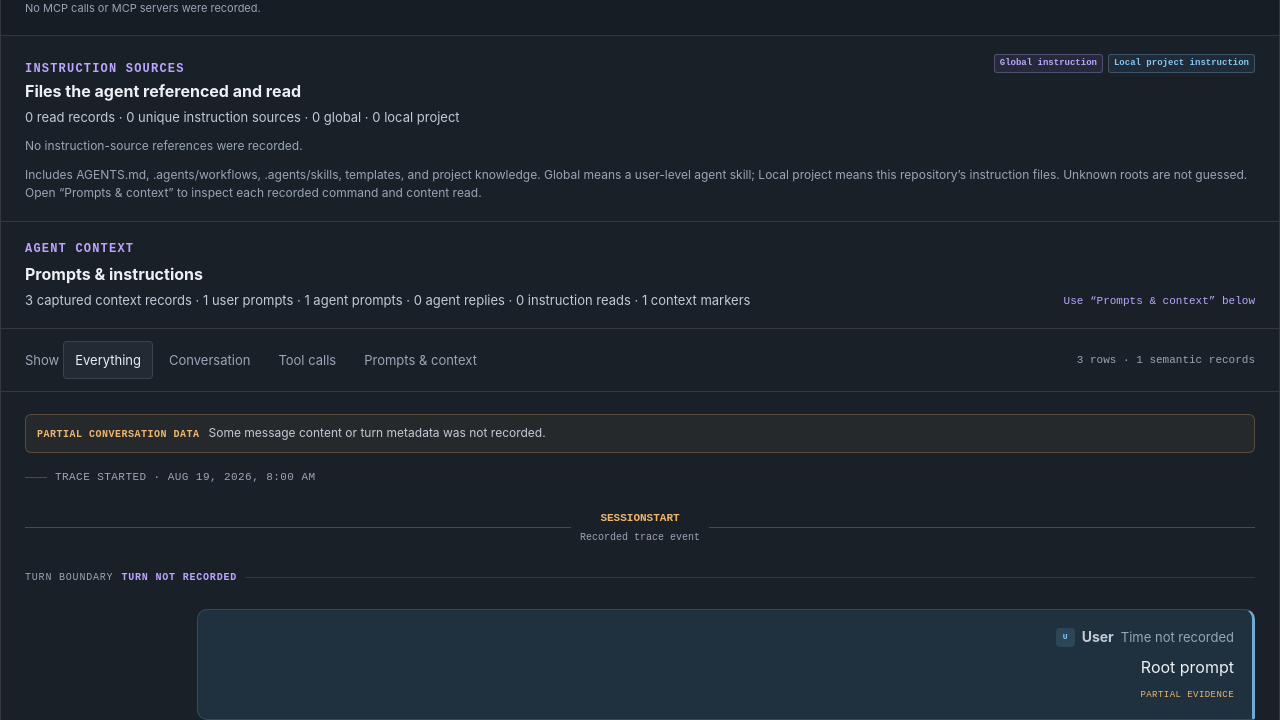
it: TraceView API conversation › shows root chat first and keeps an internal agent prompt in Prompts & context
(page scrolled)
Expected: the number of elements with class "conversation-message" is 1, [197, 609, 1255, 719]
Expected: the text "Root prompt" is shown, [1141, 657, 1234, 677]
Click the button "Conversation": (210, 360) [157, 341, 262, 379]
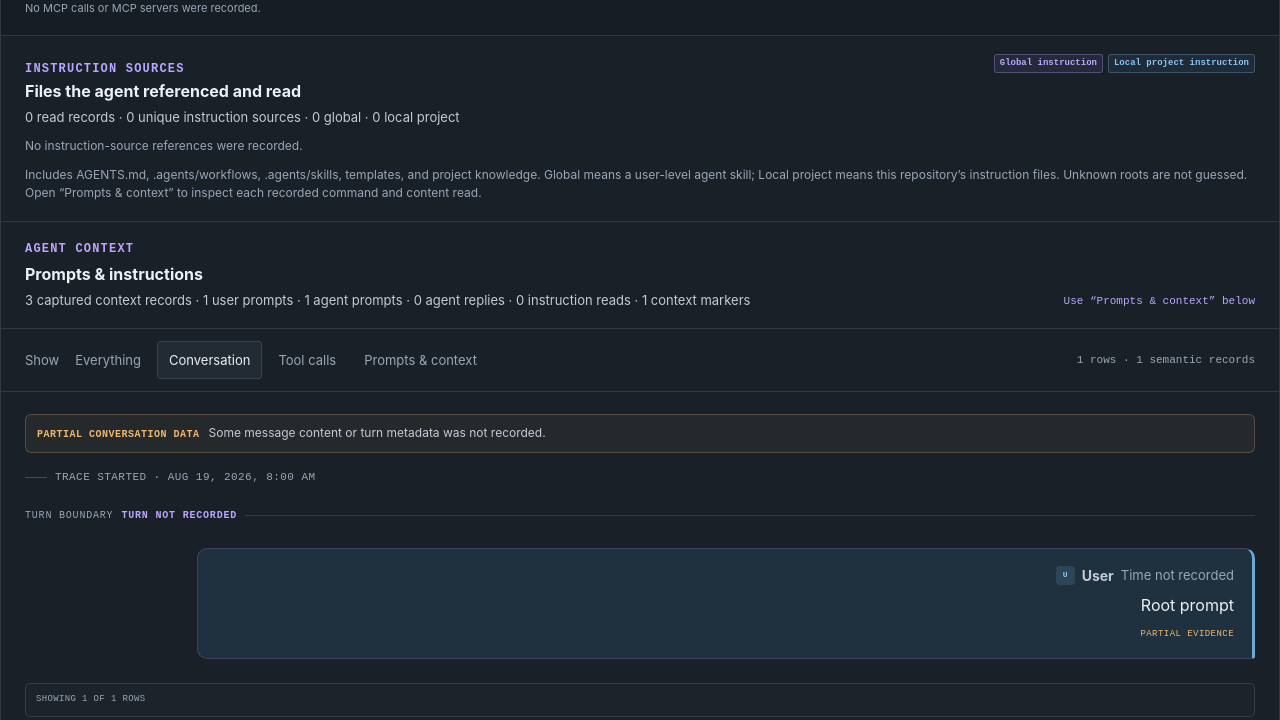
Click the button "Prompts & context": (421, 360) [352, 341, 489, 379]
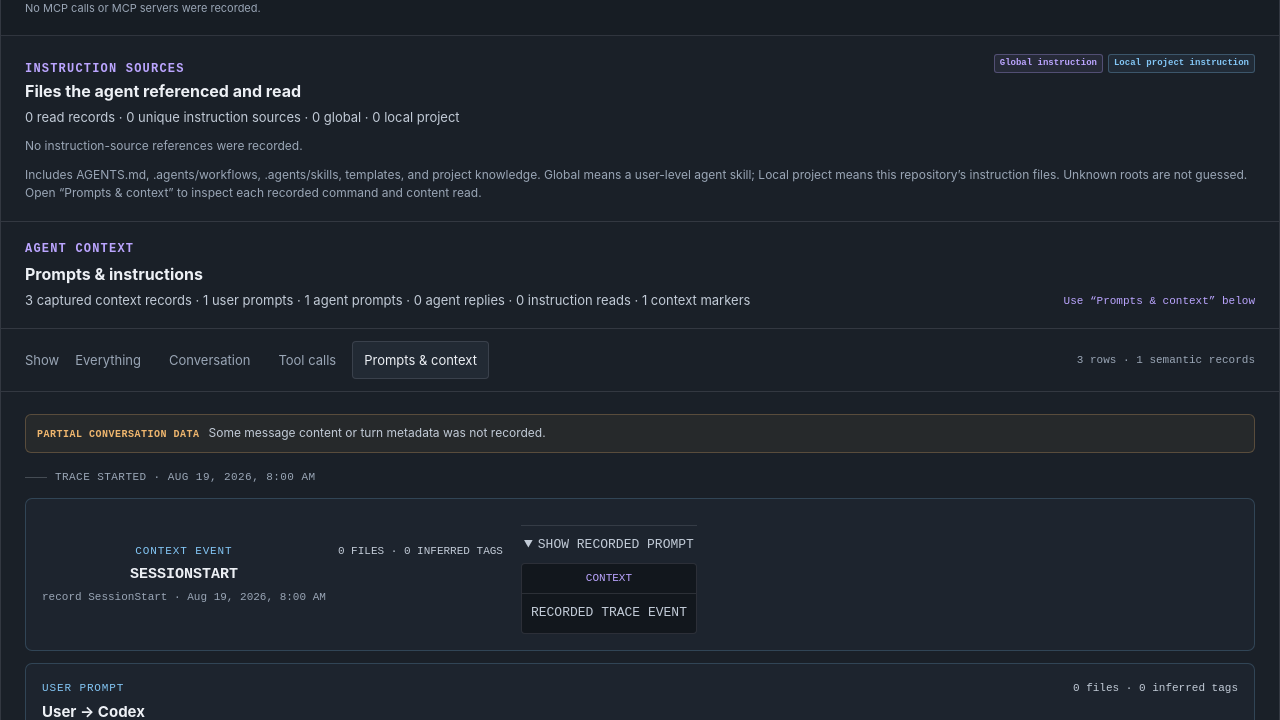
Expected: the text "SessionStart" is shown, [130, 566, 238, 583]
Expected: no elements with class "conversation-message" are shown
